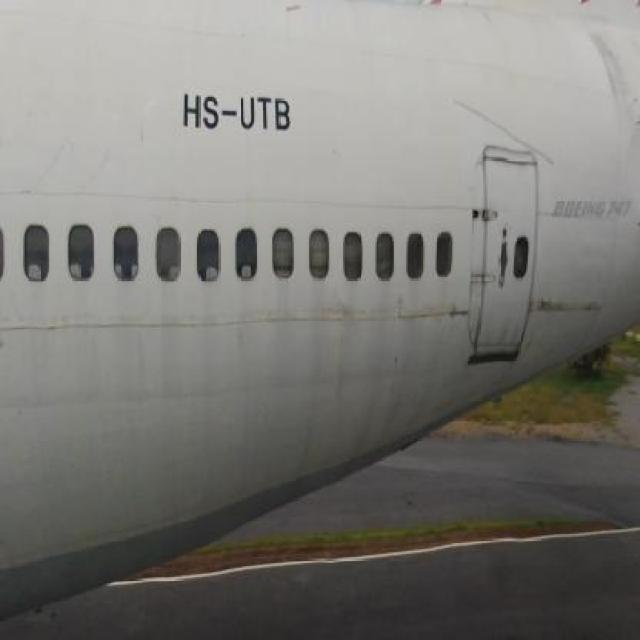Rust: (590, 15, 635, 109), (530, 288, 608, 324), (486, 315, 534, 359), (484, 145, 544, 178)
Scartch: (324, 288, 362, 412), (391, 285, 429, 332), (441, 297, 479, 335), (138, 83, 154, 162)
